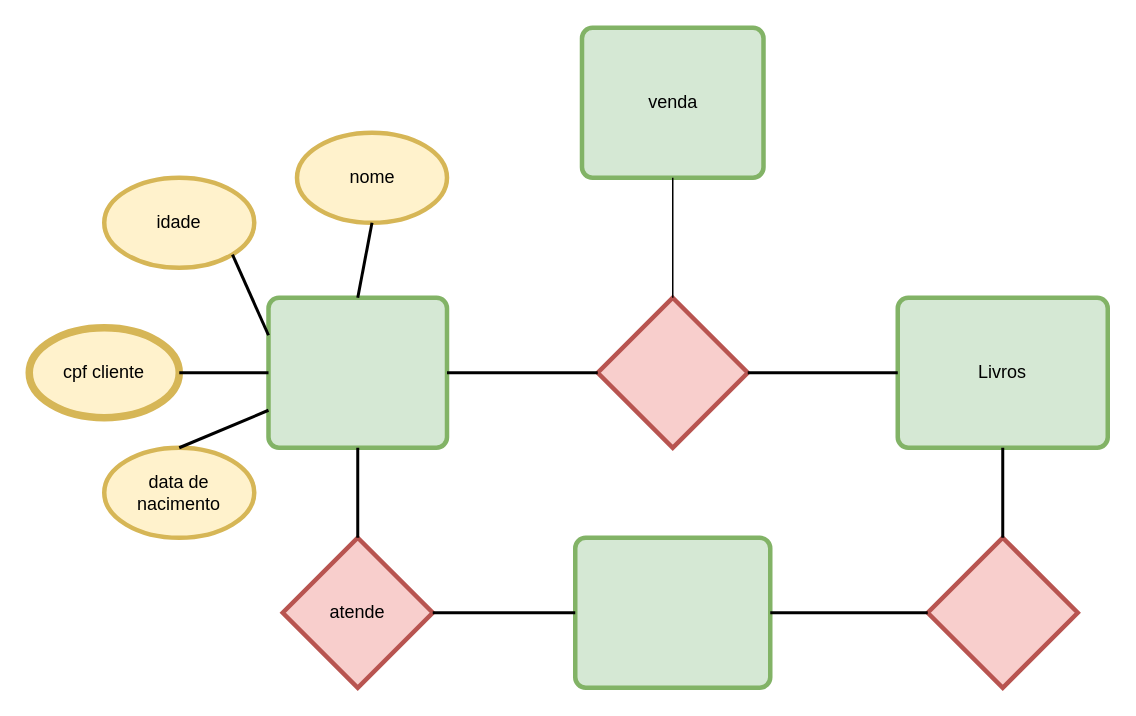
This 1136x716 diagram has some shape labels left out. The centre of each missing label's shape, as x and y in pixels:
"cliente" goes at pixel 357 372.
"compra" goes at pixel 672 372.
"vende" goes at pixel 1002 612.
"vendedor" goes at pixel 672 612.
